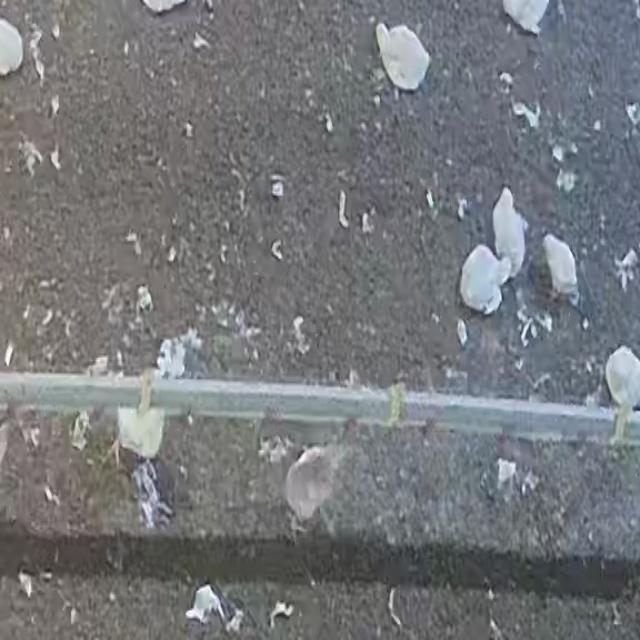chicken: (114, 366, 166, 460), (283, 446, 338, 525), (376, 21, 431, 90), (491, 188, 528, 280), (458, 244, 506, 314), (541, 233, 580, 300), (604, 345, 640, 408)
